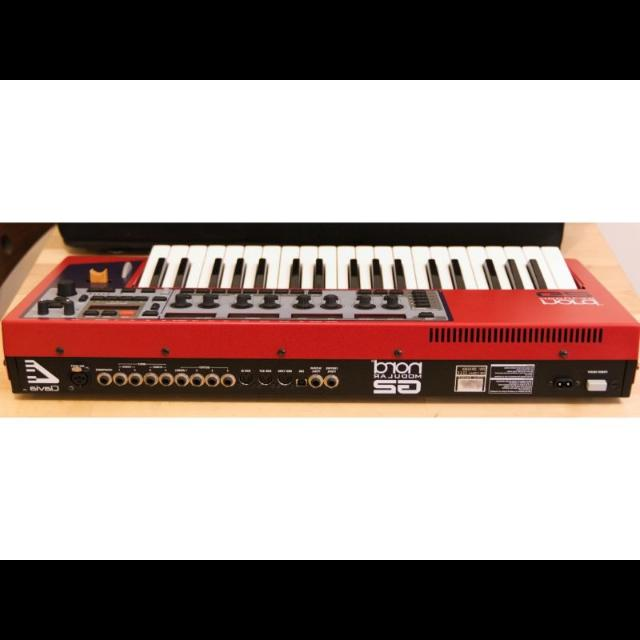Electronic-Keyboard: (14, 238, 626, 402)
